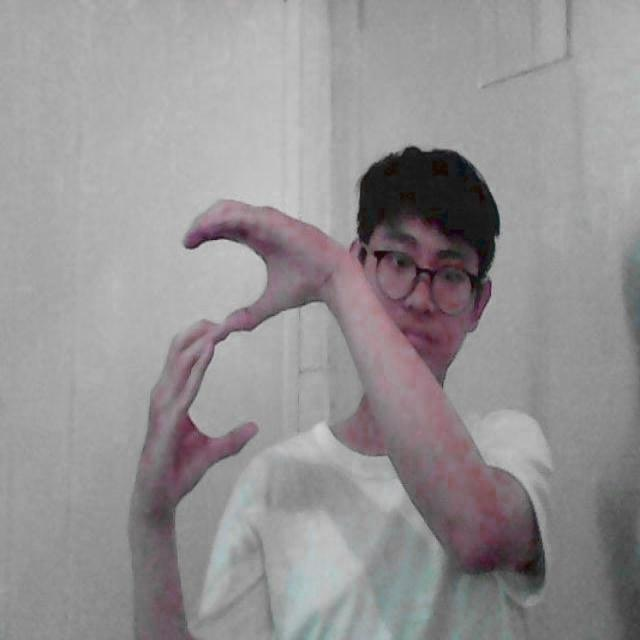S: (139, 192, 323, 478)
